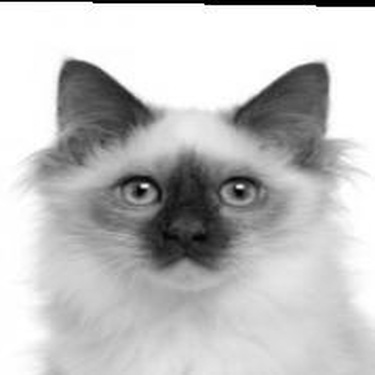cat: (30, 54, 367, 369)
